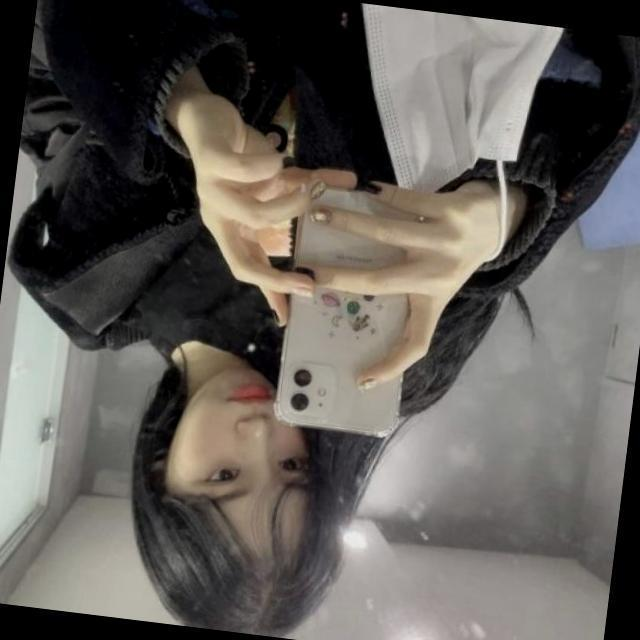lens: (282, 358, 334, 423)
phone: (268, 177, 429, 446)
